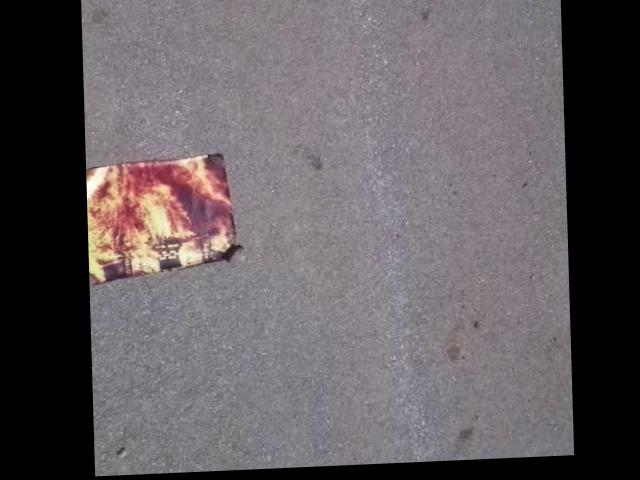fire-poster: (85, 152, 245, 288)
